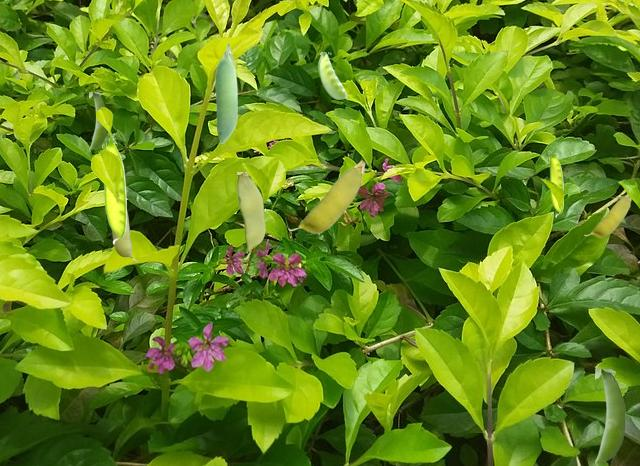pea: (288, 160, 364, 232), (595, 369, 624, 464), (102, 138, 125, 243), (237, 172, 264, 258), (215, 42, 236, 142), (584, 195, 631, 236), (111, 206, 138, 260), (318, 52, 346, 101), (89, 92, 106, 150), (549, 153, 562, 216)
